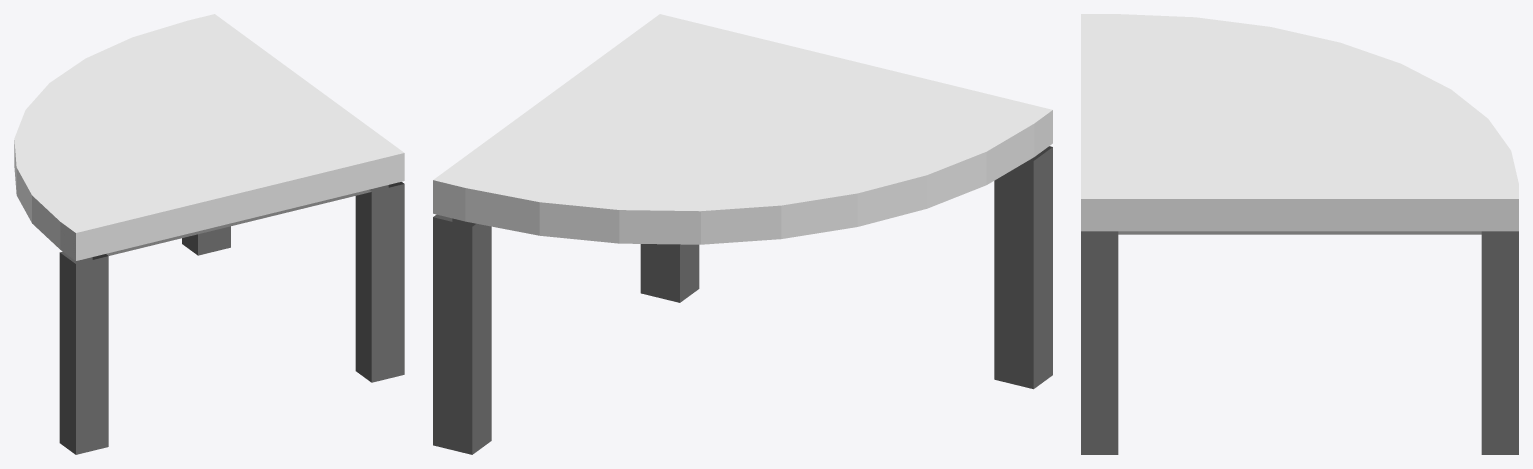
The model's file is DeskCorner.fbx.
3 renders of one model, left to right at view 1: azimuth 30°, elevation 25°; view 2: azimuth 150°, elevation 25°; view 3: azimuth 270°, elevation 25°, orthographic. The views are drawn at different scales.
Parts seen in each view (by area): view 1: Cube.002; view 2: Cube.002; view 3: Cube.002.
Boxes of the visible parts, box(x1,y1,x2,y2) form: Cube.002: box(14, 14, 404, 454); Cube.002: box(433, 14, 1052, 454); Cube.002: box(1081, 14, 1518, 454).
Size of the model in its own units: 100 by 64.5 by 100.
